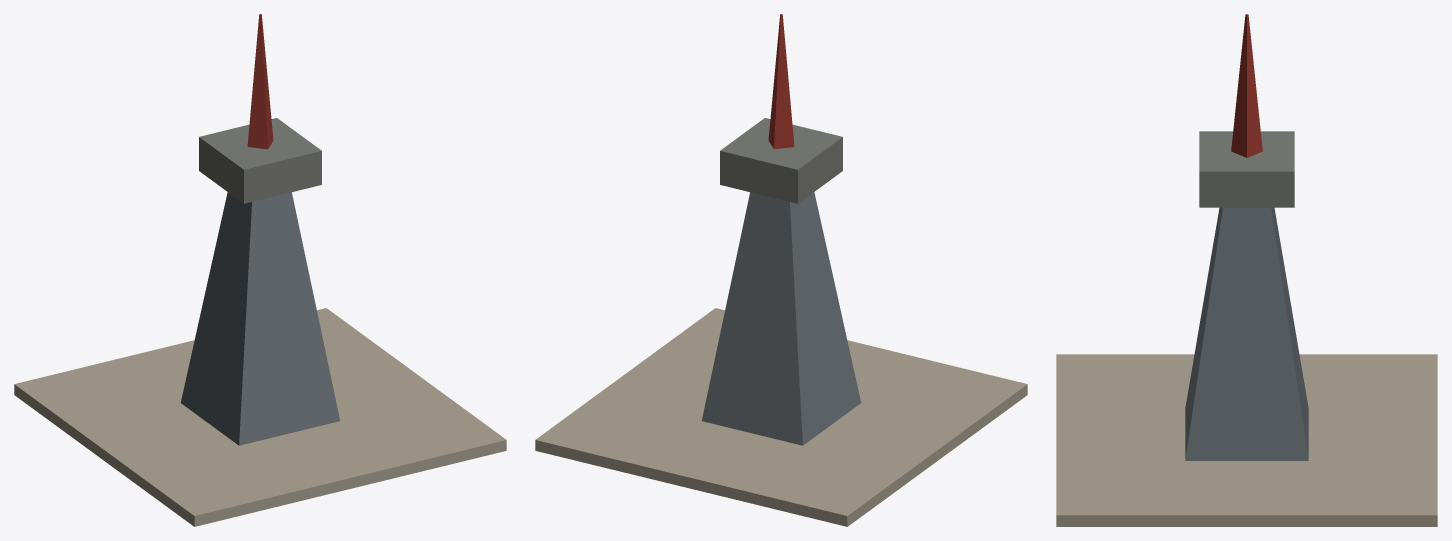
Rendered from tw_landmark_mast_lod1.glb.
3 views of the same model, side by side, from view 1: azimuth 30°, elevation 25°; view 2: azimuth 150°, elevation 25°; view 3: azimuth 270°, elevation 25° (orthographic). The views are drawn at different scales.
Parts seen in each view (by area): view 1: tw_landmark_mast_lod1; view 2: tw_landmark_mast_lod1; view 3: tw_landmark_mast_lod1.
Boxes of the visible parts, x1=… form: tw_landmark_mast_lod1: x1=14, y1=14, x2=506, y2=526; tw_landmark_mast_lod1: x1=535, y1=14, x2=1027, y2=526; tw_landmark_mast_lod1: x1=1056, y1=14, x2=1437, y2=526.
Size of the model in its own units: 24 by 30 by 24.
2 materials, 2 textured.
